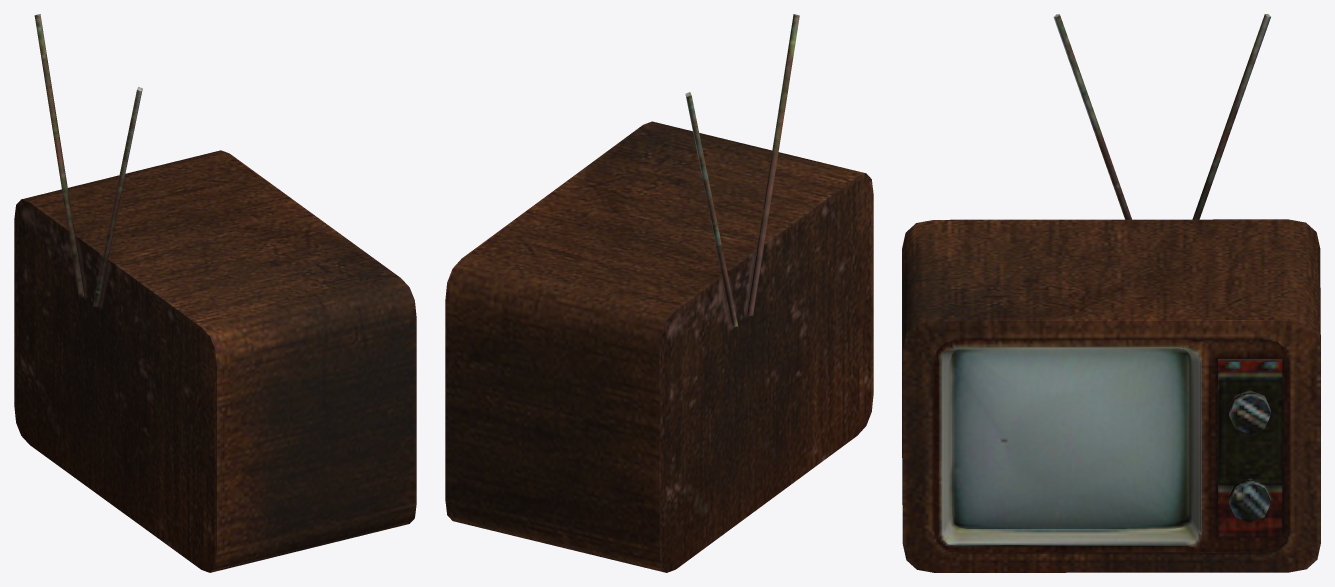
File: SmallOldTV.FBX
3 views of the same model, side by side, from view 1: azimuth 30°, elevation 25°; view 2: azimuth 150°, elevation 25°; view 3: azimuth 270°, elevation 25° (orthographic). The views are drawn at different scales.
Visible parts, largest first — view 1: SmallOldTV; view 2: SmallOldTV; view 3: SmallOldTV.
Boxes of the visible parts, x1,y1,x2,y2 form: SmallOldTV: (14,14,416,572); SmallOldTV: (445,14,873,572); SmallOldTV: (902,14,1320,572).
Bounding box in the file's own units: 42.49 × 80.78 × 67.25.
